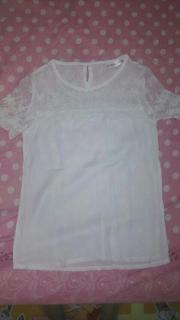short sleeve top: (0, 54, 180, 272)
